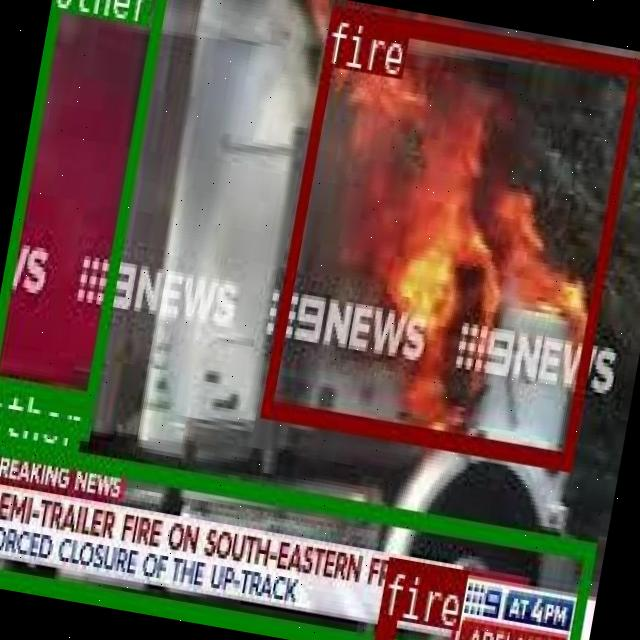fire: (258, 3, 640, 465), (371, 613, 394, 640)
